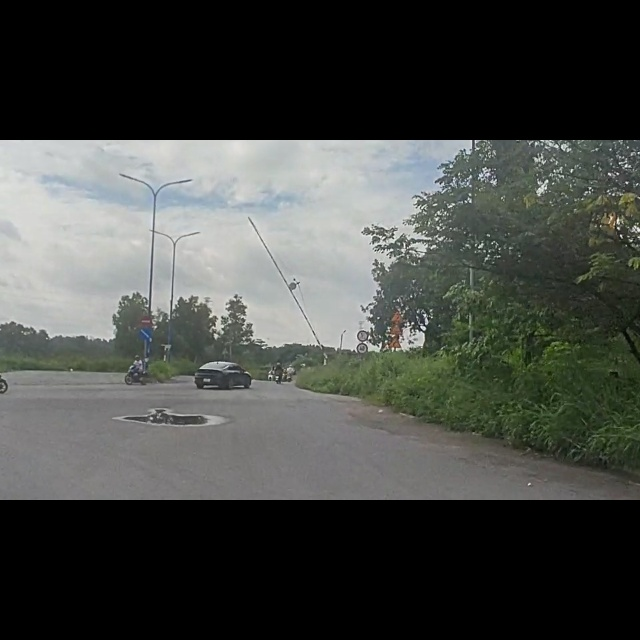bien_cam: (387, 347, 403, 372), (139, 332, 154, 356), (357, 358, 369, 383), (140, 311, 153, 332)
